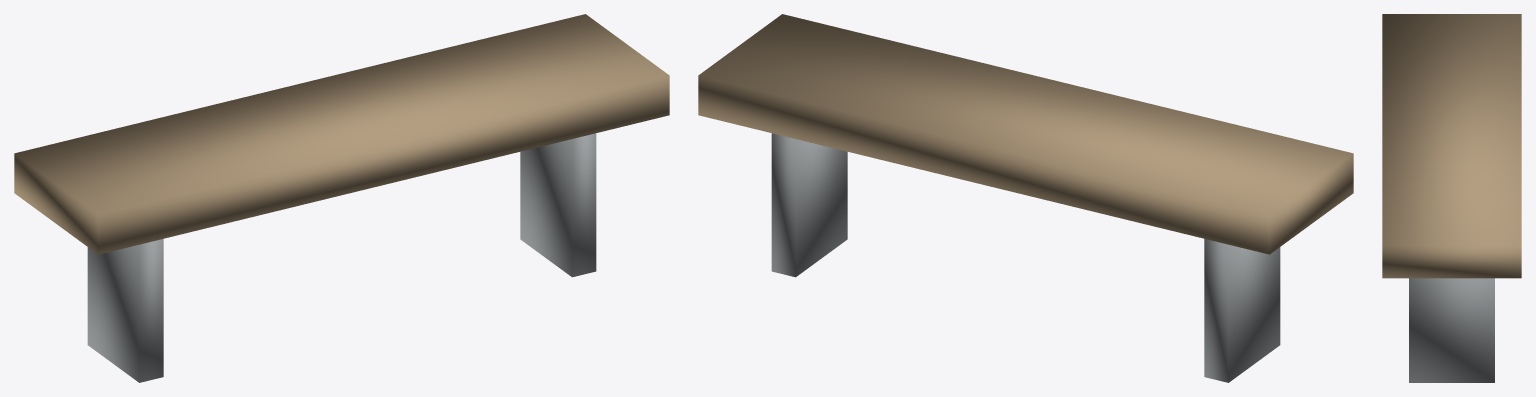
File: gallery_bench.glb
3 views of the same model, side by side, from view 1: azimuth 30°, elevation 25°; view 2: azimuth 150°, elevation 25°; view 3: azimuth 270°, elevation 25° (orthographic). The views are drawn at different scales.
Parts seen in each view (by area): view 1: world; view 2: world; view 3: world.
Boxes of the visible parts, x1,y1,x2,y2 form: world: [14, 14, 669, 382]; world: [698, 14, 1353, 382]; world: [1382, 14, 1521, 382].
Size of the model in its own units: 1.65 by 0.535 by 0.42.
